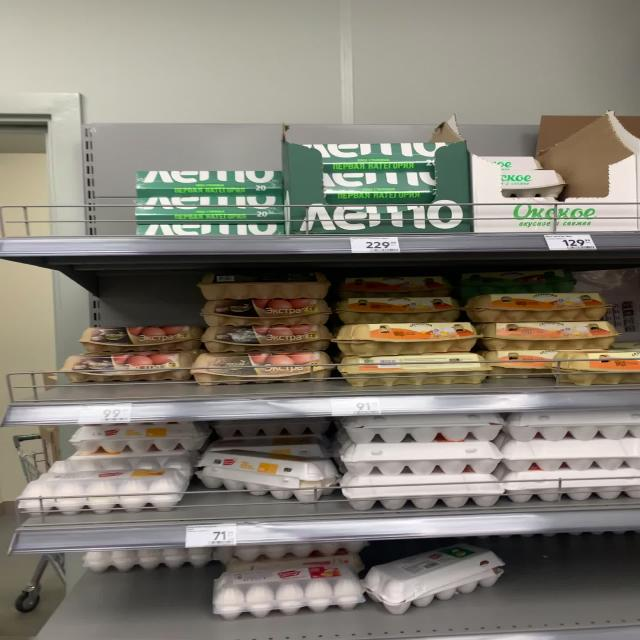egg box: (366, 543, 510, 609), (212, 554, 361, 616), (24, 470, 186, 514), (202, 449, 336, 498), (286, 164, 465, 198), (284, 136, 456, 171), (329, 351, 489, 386), (486, 344, 636, 380), (336, 321, 478, 357), (469, 285, 606, 322), (190, 351, 337, 385), (194, 265, 334, 300), (132, 167, 284, 196), (482, 316, 620, 347), (59, 352, 193, 383), (68, 425, 206, 455), (192, 298, 336, 326), (132, 194, 286, 220), (332, 295, 465, 325), (192, 323, 336, 350), (74, 321, 200, 349), (126, 218, 292, 238), (334, 272, 449, 297)
